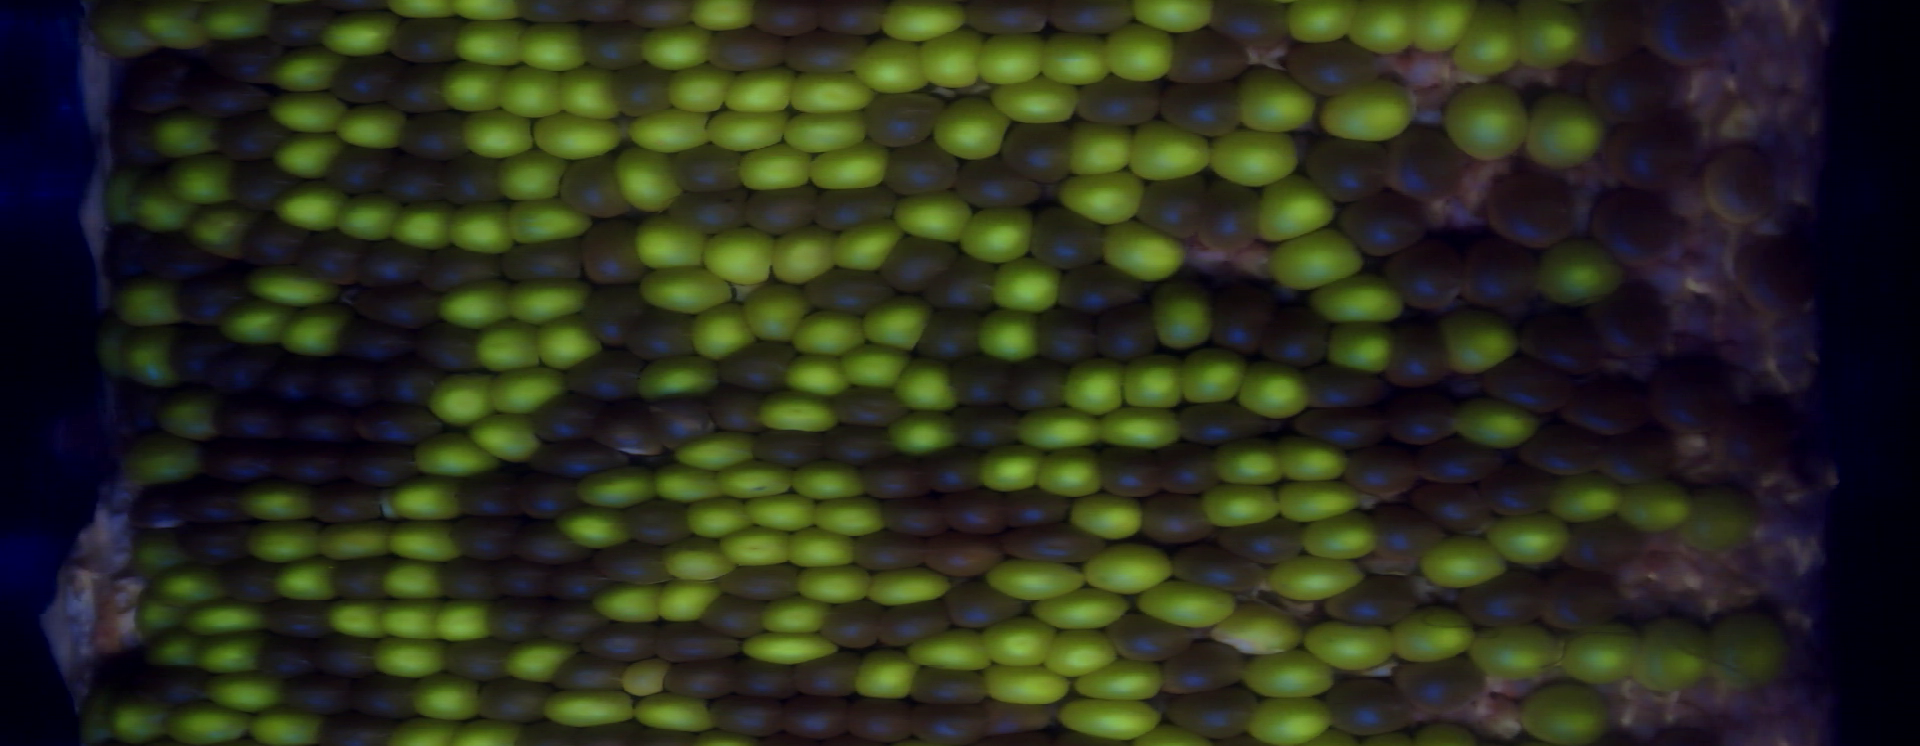fluorescent: (1438, 78, 1536, 168), (1696, 605, 1794, 695), (1624, 610, 1720, 695), (1521, 86, 1610, 176), (1314, 73, 1420, 149), (1264, 223, 1369, 296), (1675, 477, 1769, 559), (1229, 58, 1322, 138), (1511, 677, 1618, 746), (1202, 122, 1305, 192), (1536, 236, 1635, 309), (1120, 116, 1220, 186), (1249, 169, 1337, 247), (1435, 296, 1524, 372), (1555, 616, 1651, 687), (1207, 599, 1310, 664), (1097, 216, 1193, 285), (609, 141, 692, 219), (1446, 1, 1528, 80), (1052, 167, 1153, 229), (1445, 391, 1547, 453), (948, 201, 1040, 269), (1134, 577, 1243, 635), (1469, 617, 1565, 682), (928, 92, 1014, 164), (634, 258, 740, 317), (1300, 615, 1403, 675), (1385, 601, 1482, 665), (1305, 268, 1406, 330), (497, 271, 600, 330), (268, 299, 358, 366), (1506, 1, 1589, 73), (1480, 506, 1580, 566), (981, 552, 1093, 605), (1080, 539, 1180, 598), (764, 219, 849, 289), (1416, 530, 1513, 590), (1238, 646, 1340, 703), (700, 220, 782, 292), (427, 273, 520, 336), (1056, 693, 1171, 744), (628, 209, 716, 274), (1205, 429, 1294, 492), (1232, 356, 1315, 424), (1262, 552, 1374, 603), (420, 367, 504, 434), (456, 104, 545, 167), (138, 104, 228, 167), (1294, 503, 1384, 566), (1145, 278, 1218, 354), (1029, 584, 1135, 636), (1243, 691, 1342, 746), (1100, 18, 1180, 86), (531, 307, 612, 375), (1266, 428, 1357, 488), (988, 73, 1089, 127), (1015, 402, 1116, 456), (855, 289, 938, 354), (527, 109, 624, 164), (632, 349, 727, 405), (901, 622, 997, 679), (1611, 473, 1696, 537), (737, 279, 816, 348), (804, 138, 898, 196), (1114, 345, 1195, 412), (738, 622, 847, 671), (849, 36, 936, 97), (181, 195, 261, 261), (684, 296, 764, 363), (891, 187, 977, 249), (1176, 341, 1251, 409), (986, 254, 1069, 316), (971, 27, 1056, 88), (158, 696, 261, 746), (242, 258, 343, 310), (500, 194, 598, 246), (1074, 653, 1172, 706), (980, 659, 1078, 712), (536, 684, 642, 733), (827, 213, 907, 277), (1198, 479, 1291, 534), (267, 180, 358, 236), (1059, 118, 1142, 179), (786, 62, 883, 115), (756, 385, 850, 439), (835, 338, 920, 398), (978, 612, 1063, 673), (1059, 352, 1131, 421), (1092, 403, 1193, 453), (550, 500, 639, 556), (126, 169, 201, 236), (409, 429, 504, 481), (482, 364, 576, 418), (156, 149, 239, 209), (971, 303, 1049, 366), (83, 1, 163, 64), (787, 307, 876, 364), (384, 469, 473, 526), (1065, 489, 1153, 545), (623, 105, 715, 159), (468, 405, 549, 467), (1404, 1, 1485, 62), (915, 26, 989, 92), (119, 431, 204, 489), (889, 353, 965, 418), (382, 513, 471, 568), (1041, 624, 1123, 684), (1547, 467, 1629, 527), (567, 462, 665, 512), (672, 423, 765, 475), (1270, 475, 1363, 528), (239, 514, 329, 568), (104, 272, 189, 330), (405, 669, 490, 726), (144, 559, 233, 614), (496, 632, 584, 687), (444, 198, 525, 258), (473, 314, 549, 377), (1322, 317, 1401, 379), (967, 439, 1051, 496), (1341, 1, 1424, 59), (328, 99, 415, 154), (132, 1, 217, 58), (553, 61, 629, 124), (780, 107, 872, 158), (733, 138, 816, 196), (1037, 29, 1116, 89), (118, 326, 186, 394), (878, 404, 965, 458), (187, 625, 274, 679), (260, 89, 355, 138), (493, 147, 573, 206), (495, 61, 569, 124), (175, 595, 278, 641), (214, 296, 299, 352), (664, 60, 744, 118), (1031, 441, 1112, 499), (315, 7, 403, 60), (234, 477, 326, 527), (872, 1, 973, 47), (264, 44, 354, 96), (719, 62, 802, 118), (513, 20, 593, 77), (437, 56, 512, 118), (629, 686, 722, 735), (647, 572, 729, 627), (851, 644, 924, 706), (365, 632, 454, 682), (709, 458, 802, 506), (449, 13, 528, 70), (267, 127, 345, 184), (704, 105, 791, 156), (329, 189, 407, 245), (310, 514, 396, 565), (587, 578, 672, 628), (778, 347, 857, 401), (680, 492, 763, 544), (148, 387, 224, 443), (198, 668, 288, 715), (185, 1, 282, 45), (633, 20, 714, 72), (375, 552, 452, 608), (809, 492, 891, 544), (785, 454, 874, 501), (785, 522, 863, 575), (659, 535, 741, 586), (242, 702, 336, 746), (756, 590, 838, 639), (388, 197, 458, 255), (125, 529, 201, 582), (375, 593, 451, 646), (268, 552, 344, 605), (133, 624, 213, 674), (864, 562, 955, 606), (795, 559, 876, 608), (65, 688, 133, 746), (651, 459, 730, 508), (129, 583, 192, 643), (1284, 1, 1360, 51), (89, 315, 142, 387), (324, 590, 393, 646), (1122, 1, 1221, 39), (743, 489, 822, 537), (104, 697, 180, 746), (720, 522, 795, 570), (429, 592, 495, 644), (98, 159, 144, 232), (376, 710, 468, 746), (683, 1, 762, 39), (442, 714, 525, 746)
nonfluorescent: (1599, 104, 1709, 198), (1480, 167, 1582, 256), (1586, 184, 1679, 272), (1452, 233, 1548, 317), (1554, 369, 1662, 443), (1728, 236, 1820, 323), (1582, 43, 1675, 129), (1330, 184, 1435, 258), (1378, 234, 1469, 318), (1380, 121, 1469, 207), (1698, 138, 1780, 232), (1588, 277, 1678, 360), (1298, 132, 1397, 206), (1479, 350, 1584, 419), (1529, 563, 1629, 636), (1282, 36, 1389, 100), (1318, 674, 1419, 741), (1646, 359, 1725, 445), (1127, 169, 1215, 246), (1516, 305, 1605, 381), (1640, 1, 1735, 72), (1453, 570, 1559, 633), (551, 149, 639, 225), (109, 43, 198, 118), (1201, 281, 1284, 360), (1320, 570, 1425, 632), (994, 111, 1078, 190), (872, 229, 965, 299), (1065, 73, 1173, 134), (1708, 399, 1802, 468), (709, 334, 804, 402), (1022, 200, 1107, 276), (1163, 539, 1272, 598), (1162, 682, 1269, 742), (855, 89, 953, 154), (1049, 258, 1149, 322), (344, 390, 447, 451), (1391, 657, 1495, 717), (1247, 303, 1336, 372), (415, 238, 513, 301), (1189, 175, 1265, 257), (795, 261, 902, 318), (336, 279, 451, 333), (1286, 402, 1401, 456), (950, 153, 1046, 218), (334, 434, 429, 499), (994, 521, 1113, 572), (142, 222, 233, 289), (1100, 608, 1201, 668), (1163, 23, 1255, 89), (576, 216, 656, 290), (107, 657, 216, 712), (1157, 637, 1251, 701), (1556, 514, 1654, 576), (1155, 78, 1251, 140), (876, 137, 966, 202), (615, 303, 705, 367), (351, 232, 440, 298), (492, 230, 591, 289), (648, 614, 756, 668), (916, 252, 1002, 320), (1567, 1, 1653, 69), (1090, 294, 1166, 370), (164, 318, 241, 393), (168, 269, 260, 332), (204, 107, 300, 167), (573, 281, 655, 350), (195, 429, 284, 492), (904, 303, 989, 369), (1379, 318, 1456, 392), (329, 314, 425, 372), (560, 345, 653, 405), (587, 394, 669, 462), (1480, 461, 1564, 527), (1133, 485, 1218, 549), (615, 491, 700, 555), (1363, 500, 1449, 563), (383, 9, 474, 69), (504, 516, 595, 576), (738, 179, 825, 241), (224, 156, 309, 219), (522, 436, 634, 484), (593, 535, 678, 598), (1409, 436, 1511, 489), (1515, 423, 1605, 481), (662, 184, 757, 240), (94, 218, 169, 289), (1093, 439, 1171, 507), (1412, 479, 1500, 539), (778, 27, 876, 81), (276, 391, 360, 453), (940, 578, 1026, 639), (700, 22, 793, 78), (1171, 399, 1277, 448), (324, 49, 411, 109), (367, 353, 451, 415), (209, 337, 287, 404), (1217, 514, 1311, 570), (945, 398, 1033, 457), (471, 673, 562, 729), (809, 183, 909, 234), (291, 225, 369, 292), (711, 559, 811, 610), (934, 483, 1018, 544), (1030, 303, 1103, 371), (1299, 359, 1395, 412), (380, 59, 462, 120), (667, 137, 749, 198), (1594, 428, 1678, 488), (175, 475, 260, 534), (1147, 437, 1228, 499), (509, 465, 590, 527), (175, 514, 261, 572), (1341, 441, 1423, 501), (645, 390, 722, 453), (744, 424, 838, 477), (276, 668, 359, 726), (405, 317, 485, 379), (125, 473, 196, 541), (201, 34, 289, 89), (203, 394, 291, 450), (721, 650, 809, 706), (920, 529, 1008, 584), (394, 107, 475, 167), (310, 348, 384, 413), (945, 349, 1020, 414), (447, 464, 529, 523), (699, 380, 776, 442), (827, 379, 916, 432), (525, 388, 604, 450), (902, 660, 998, 710), (773, 688, 856, 746), (433, 153, 509, 216), (318, 140, 396, 201), (852, 451, 938, 506), (306, 478, 393, 532), (871, 597, 958, 650), (348, 666, 421, 730), (996, 483, 1080, 538), (705, 688, 790, 744), (549, 647, 637, 699), (235, 213, 312, 273), (817, 418, 902, 472), (1381, 392, 1461, 450), (250, 625, 324, 686), (479, 589, 555, 649), (1005, 350, 1071, 419), (660, 655, 748, 707), (260, 345, 329, 410), (842, 691, 928, 744), (902, 698, 997, 746), (576, 617, 665, 668), (373, 148, 444, 211), (604, 60, 676, 121), (697, 587, 775, 643), (214, 555, 289, 614), (260, 593, 343, 646), (850, 524, 933, 577), (104, 111, 171, 176), (276, 436, 351, 494), (307, 628, 380, 688), (324, 552, 404, 606), (1204, 1, 1296, 48), (877, 488, 954, 543), (787, 647, 866, 701), (816, 597, 888, 654), (264, 1, 345, 53), (489, 552, 566, 606), (448, 510, 519, 567), (956, 1, 1060, 40), (577, 17, 649, 73), (189, 78, 280, 121), (918, 442, 988, 499), (1038, 1, 1141, 39), (973, 695, 1059, 740), (443, 633, 516, 686), (433, 552, 502, 608), (531, 599, 615, 644), (547, 554, 613, 610), (311, 707, 403, 746), (744, 1, 831, 42), (808, 1, 891, 39), (623, 1, 700, 38), (509, 1, 591, 32), (567, 1, 643, 29)
